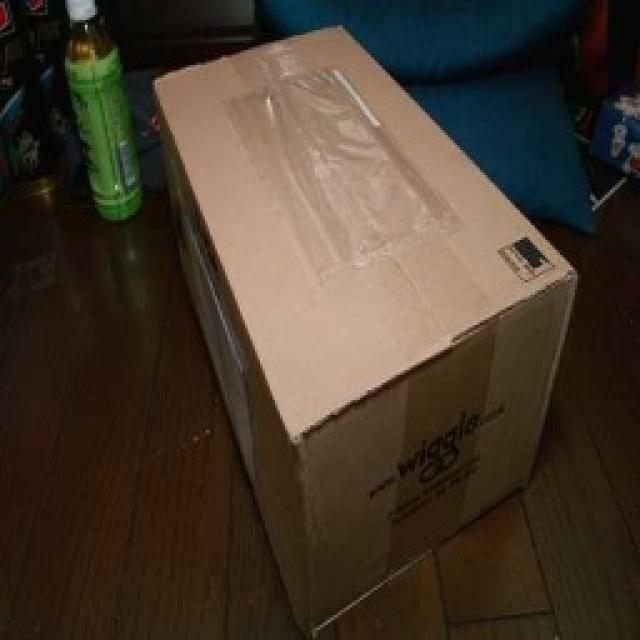box: (104, 34, 601, 630)
